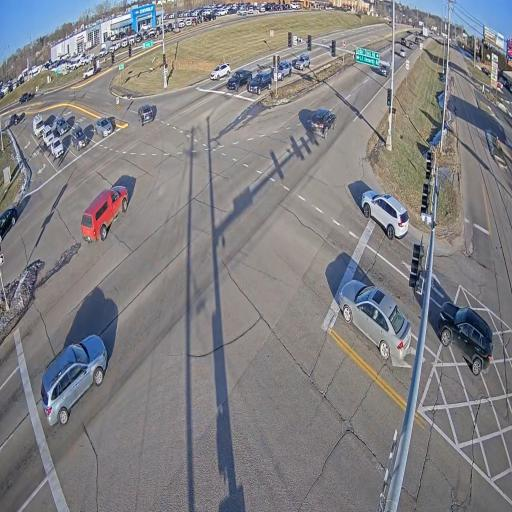pickup: (81, 186, 129, 241), (83, 67, 94, 79), (20, 92, 30, 103), (415, 37, 419, 44)
sedan: (336, 279, 411, 361), (0, 206, 17, 242), (247, 72, 272, 95), (226, 70, 252, 91), (95, 118, 113, 137), (51, 137, 64, 157), (9, 113, 20, 126), (380, 65, 389, 77), (399, 48, 406, 58)
suv: (41, 334, 107, 425), (437, 301, 493, 375), (81, 185, 128, 242), (361, 190, 409, 239), (312, 109, 336, 138), (71, 126, 88, 151), (138, 104, 155, 126), (211, 63, 231, 80), (54, 116, 70, 136), (277, 61, 292, 80), (296, 54, 310, 70), (43, 125, 53, 146), (401, 38, 407, 45), (409, 42, 413, 48), (388, 21, 392, 26)
truck: (423, 26, 429, 37)
van: (33, 114, 44, 138)
